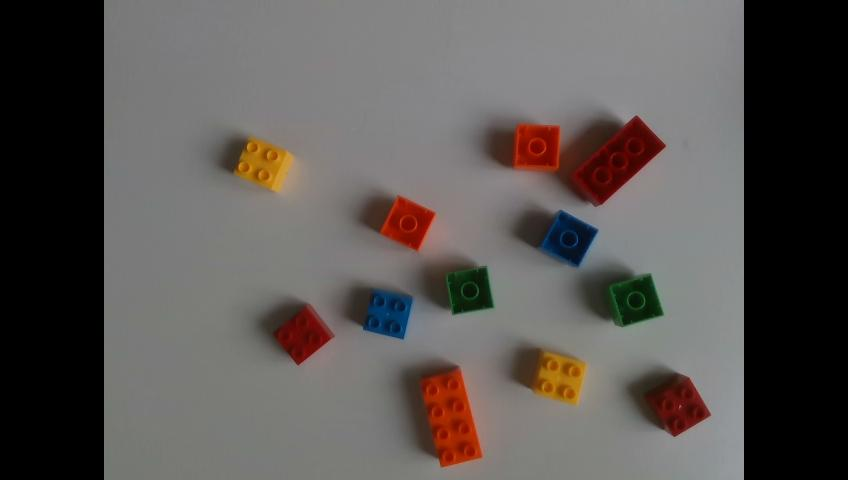2x2_blue: (540, 210, 601, 266), (365, 288, 414, 341)
2x2_green: (605, 274, 662, 329), (448, 264, 495, 318)
2x2_orange: (379, 195, 435, 249), (513, 122, 562, 173)
2x2_red: (644, 372, 711, 435), (273, 303, 334, 363)
2x2_yellow: (235, 137, 292, 189), (532, 350, 586, 402)
4x2_orange: (422, 369, 481, 465)
4x2_red: (571, 113, 664, 204)
